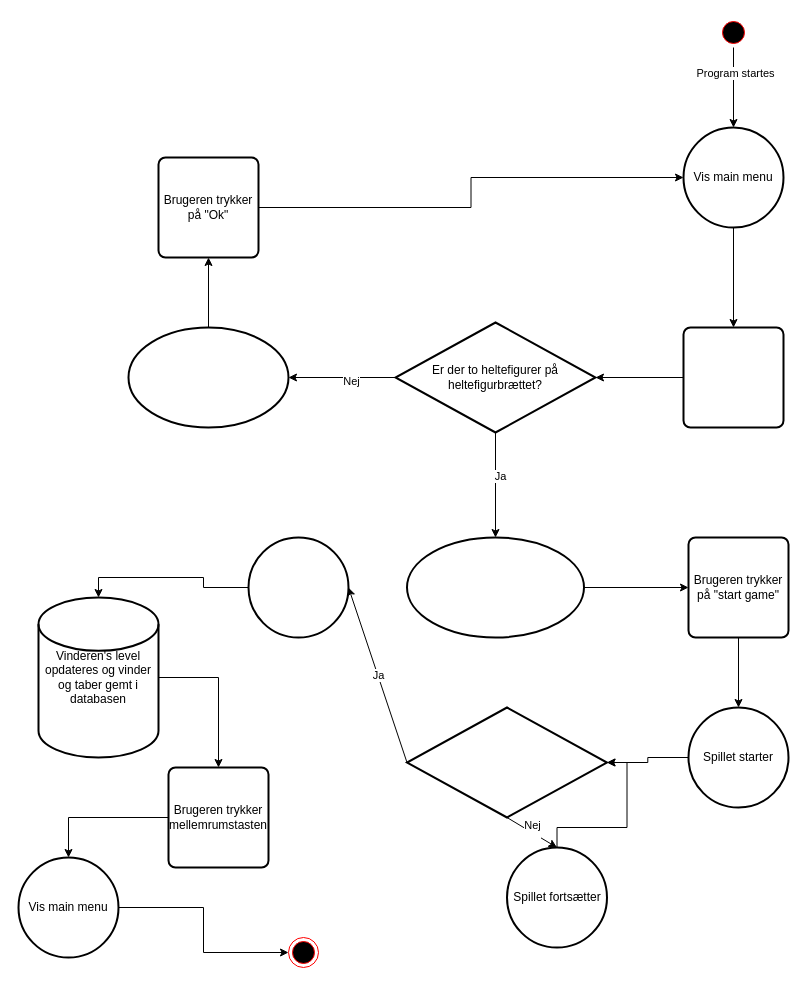
Some shapes in this 806 by 985 pixel diagram are drawn without their labels. The box of each missing label's shape, as (x1, y1, x2, y2) in pixels:
Brugeren trykker "start spil": (682, 326, 784, 428)
En af spillerne har mistet alle liv?: (406, 706, 608, 818)
Spillet er færdigt: (247, 536, 349, 638)
Vis de to valgte figurer på start game page: (406, 536, 584, 638)
Vis popup "placer 2 helte på sky board": (127, 326, 289, 428)
